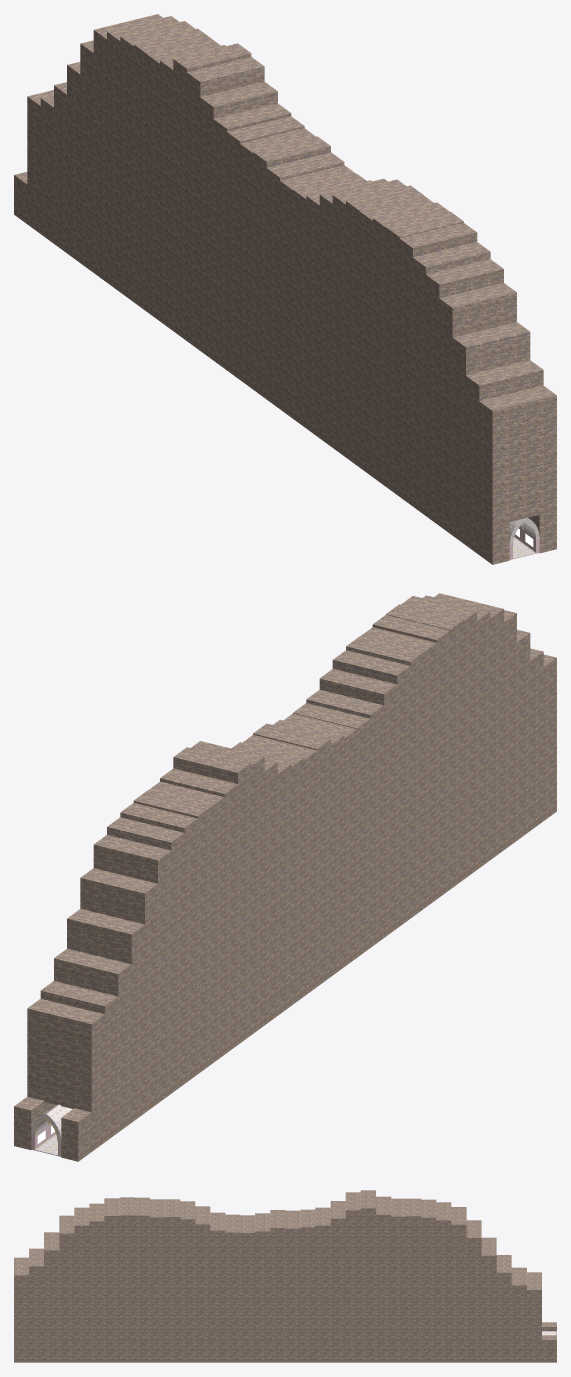
The model's file is GateTunnel.glb.
3 views of the same model, one above another, from view 1: azimuth 30°, elevation 25°; view 2: azimuth 150°, elevation 25°; view 3: azimuth 270°, elevation 25° (orthographic). The views are drawn at different scales.
Parts seen in each view (by area): view 1: GateTunnel-rock, GateTunnel-marble; view 2: GateTunnel-rock, GateTunnel-marble; view 3: GateTunnel-rock.
Boxes of the visible parts, x1,y1,x2,y2 form: GateTunnel-rock: (14, 14, 556, 564); GateTunnel-marble: (509, 518, 539, 559); GateTunnel-rock: (14, 593, 556, 1161); GateTunnel-marble: (31, 1104, 72, 1155); GateTunnel-rock: (14, 1190, 556, 1362).
Bounding box in the file's own units: 112 × 452 × 1441.
8 materials, 2 textured.
